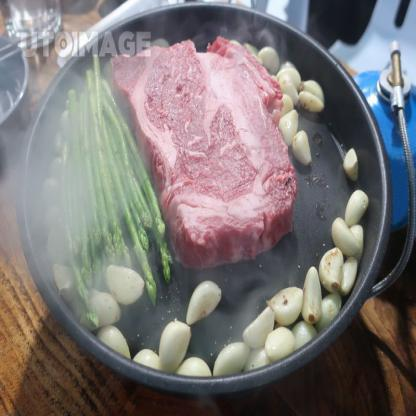beef: (117, 40, 296, 257)
garlic: (155, 318, 192, 374), (344, 186, 374, 242), (189, 278, 226, 320), (105, 264, 147, 300), (334, 214, 361, 268), (299, 70, 330, 116), (216, 337, 248, 381), (87, 289, 120, 331), (89, 322, 128, 357), (265, 325, 296, 367), (267, 287, 304, 318), (322, 242, 343, 290), (247, 308, 270, 348), (305, 269, 323, 318), (292, 129, 314, 164)
